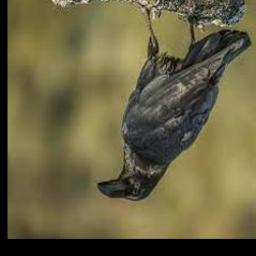Crow: (96, 4, 251, 201)
